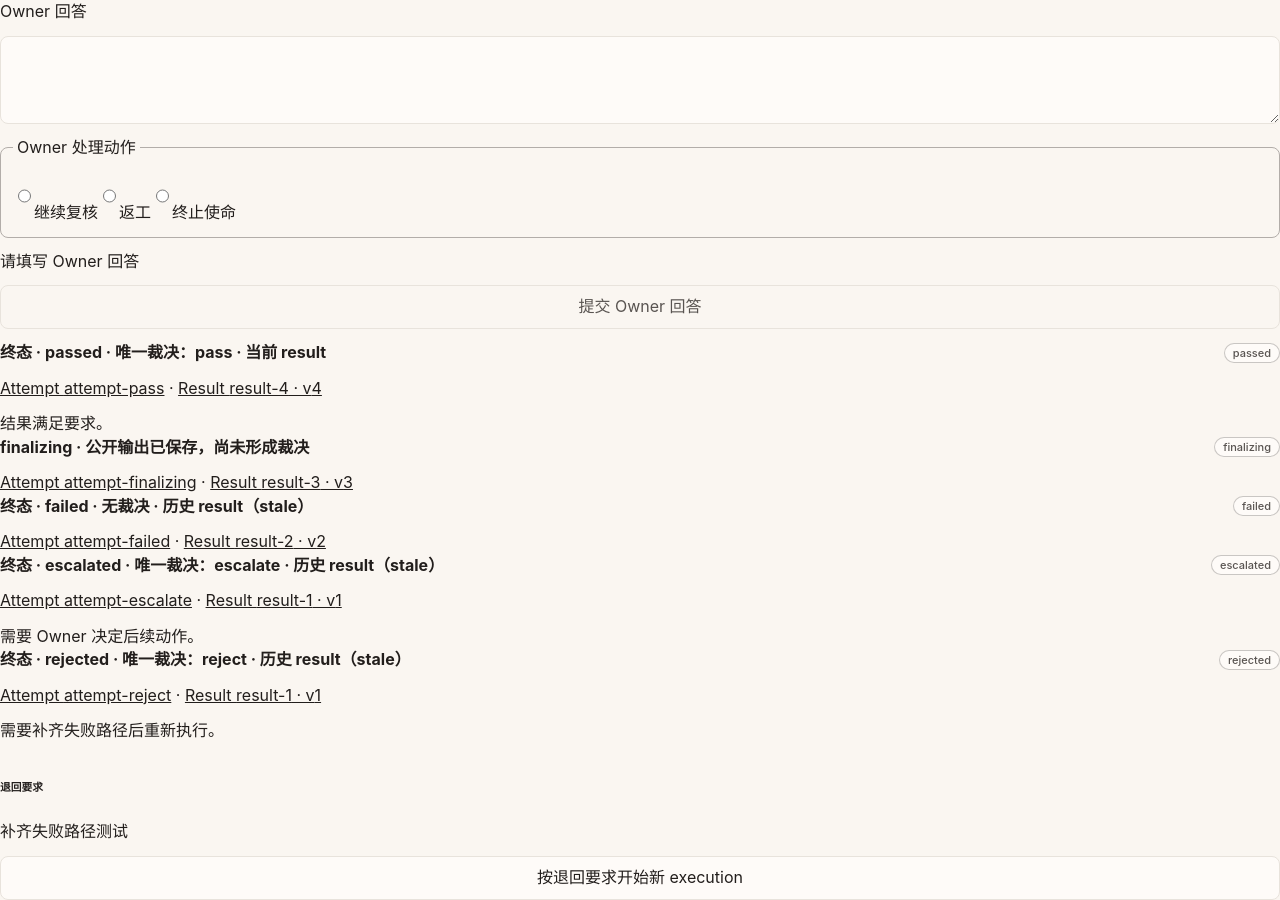
Test case: review outcomes and attempt history › turns reject requirements into a new execution entry and keeps exact navigation
(page scrolled)
Expected: the list item "补齐失败路径测试" is shown, left=0, top=821, right=128, bottom=841
Step 1. Click the button "按退回要求开始新 execution" → click(640, 878), box left=0, top=856, right=1279, bottom=899
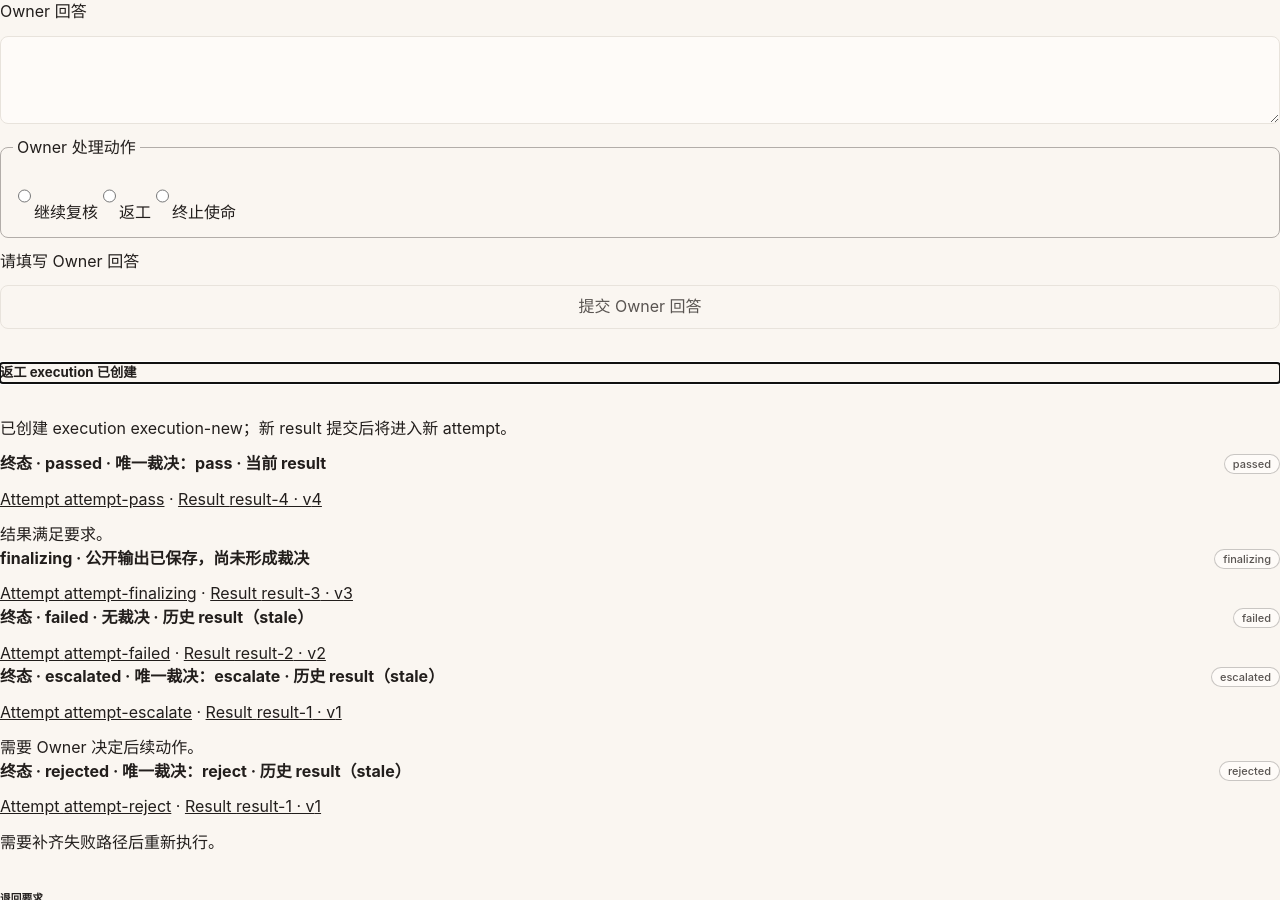
Result: the message reads "已创建 execution execution-new；新 result 提交后将进入新 attempt。" at left=0, top=418, right=516, bottom=438
